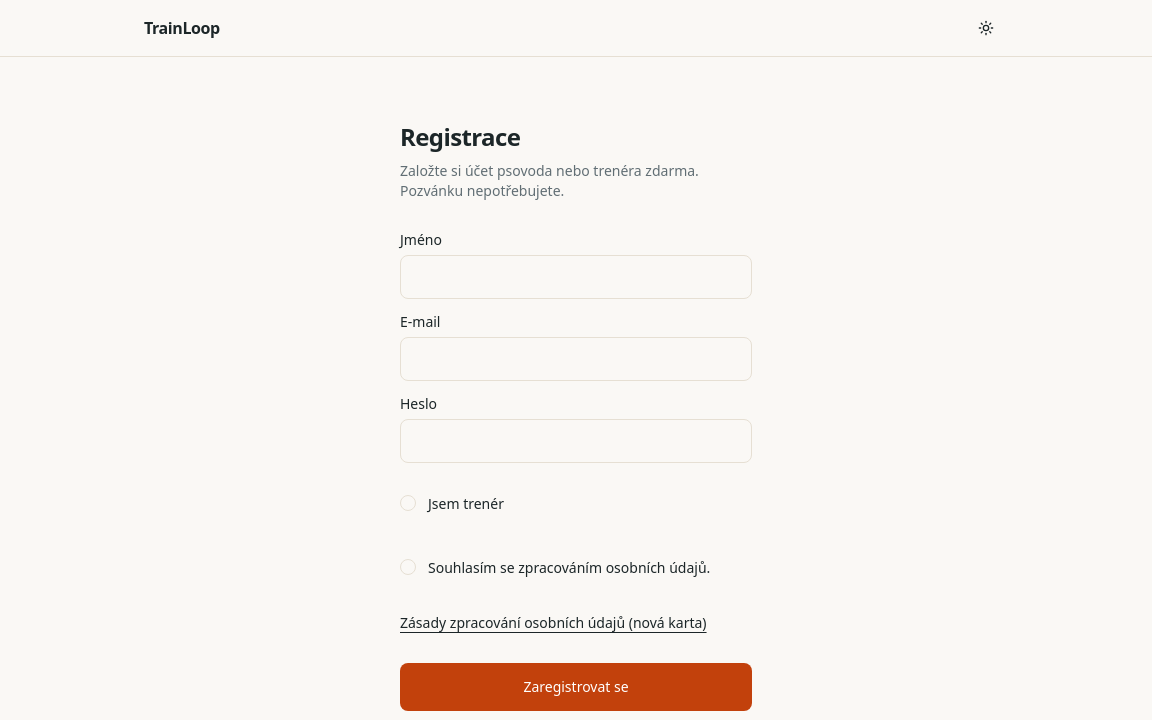
Test: owner registration › registers without a username or invitation, refreshes an anonymous session and opens Psi
The width and height of the screenshot is (1152, 720).
Type "  Jana Nováková  " into the field labelled "Jméno".
click(576, 277); type("  Jana Nováková  ")  # box [400,255,752,299]
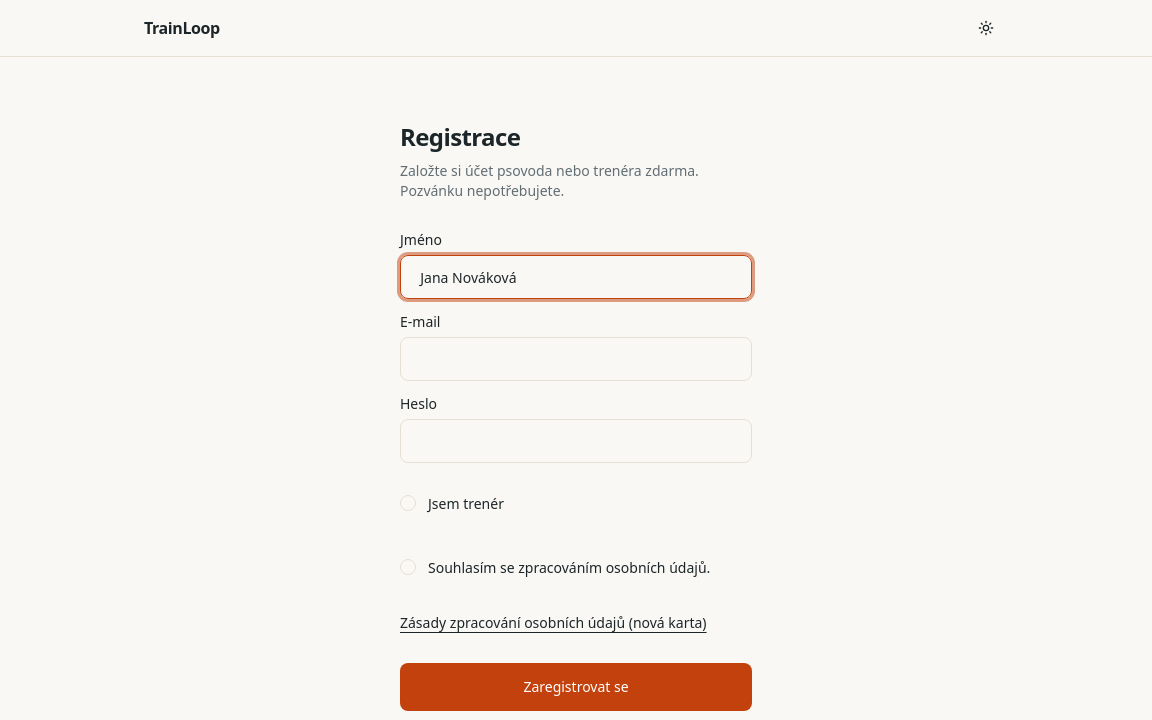
Type "jana@example.com" into the field labelled "E-mail".
click(576, 359); type("jana@example.com")  # box [400,337,752,381]
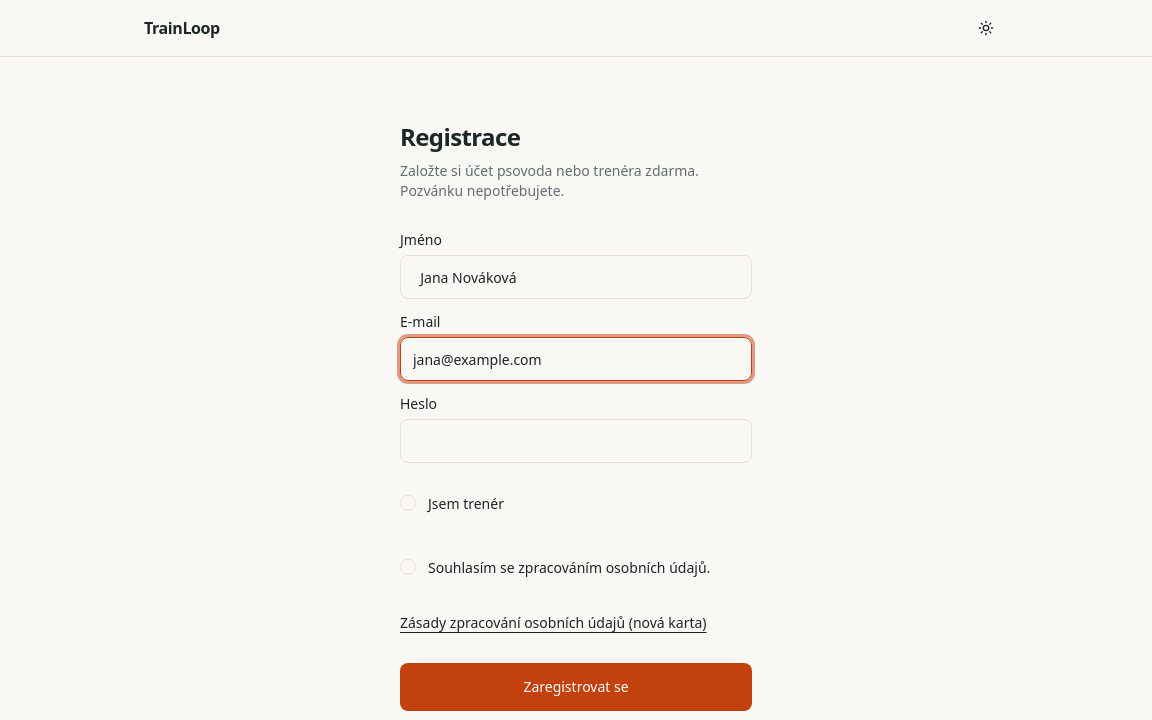
Type " space password " into the password field labelled "Heslo".
click(576, 441); type(" space password ")  # box [400,419,752,463]
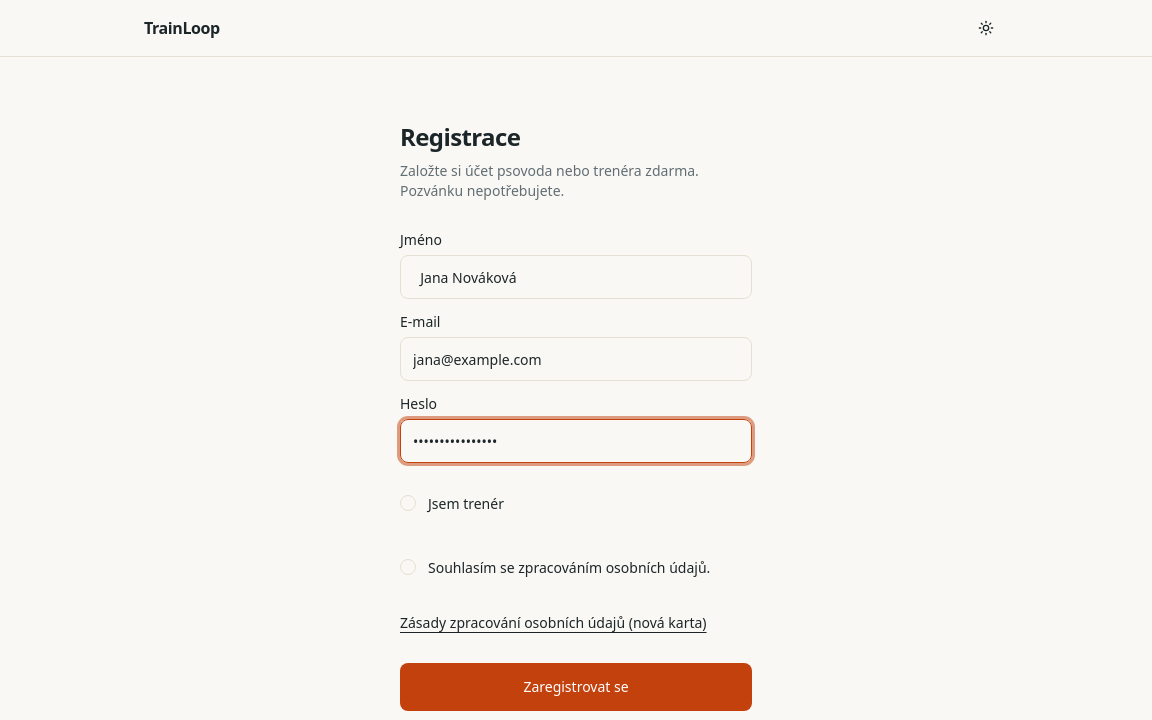
Click the checkbox named "Souhlasím se zpracováním osobních údajů." next to "Souhlasím se zpracováním osobních údajů.".
click(408, 567)  # box [400,559,416,575]
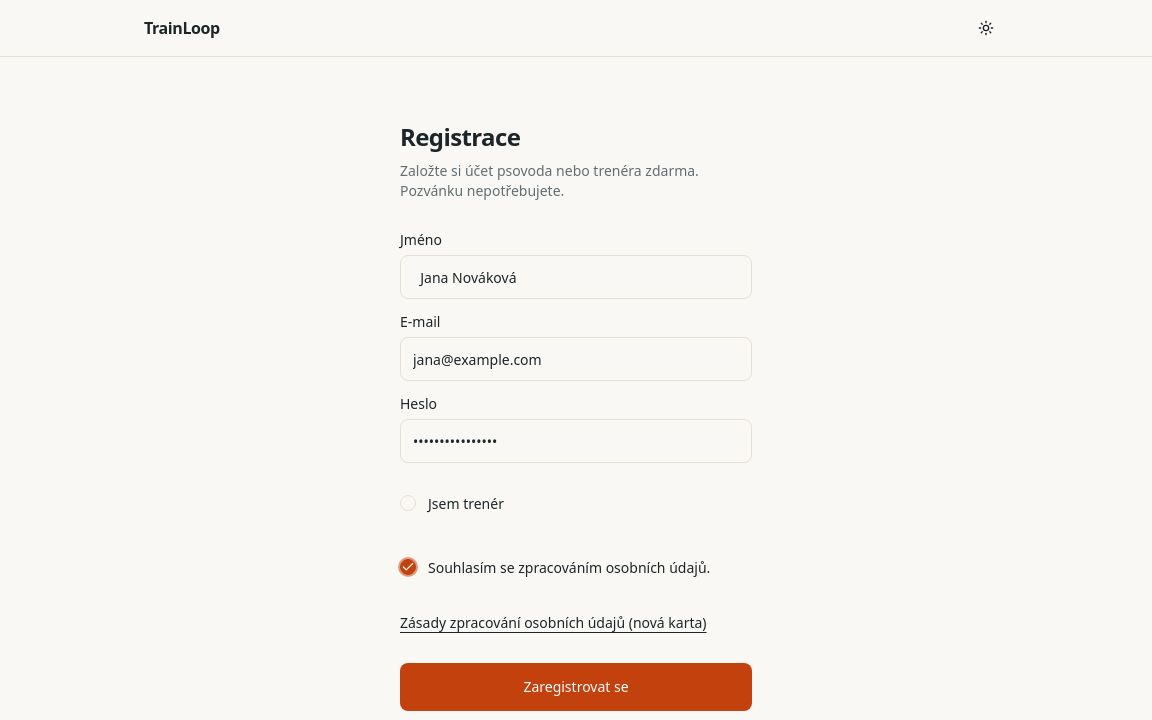
Click the button "Zaregistrovat se".
click(576, 687)  # box [400,663,752,711]
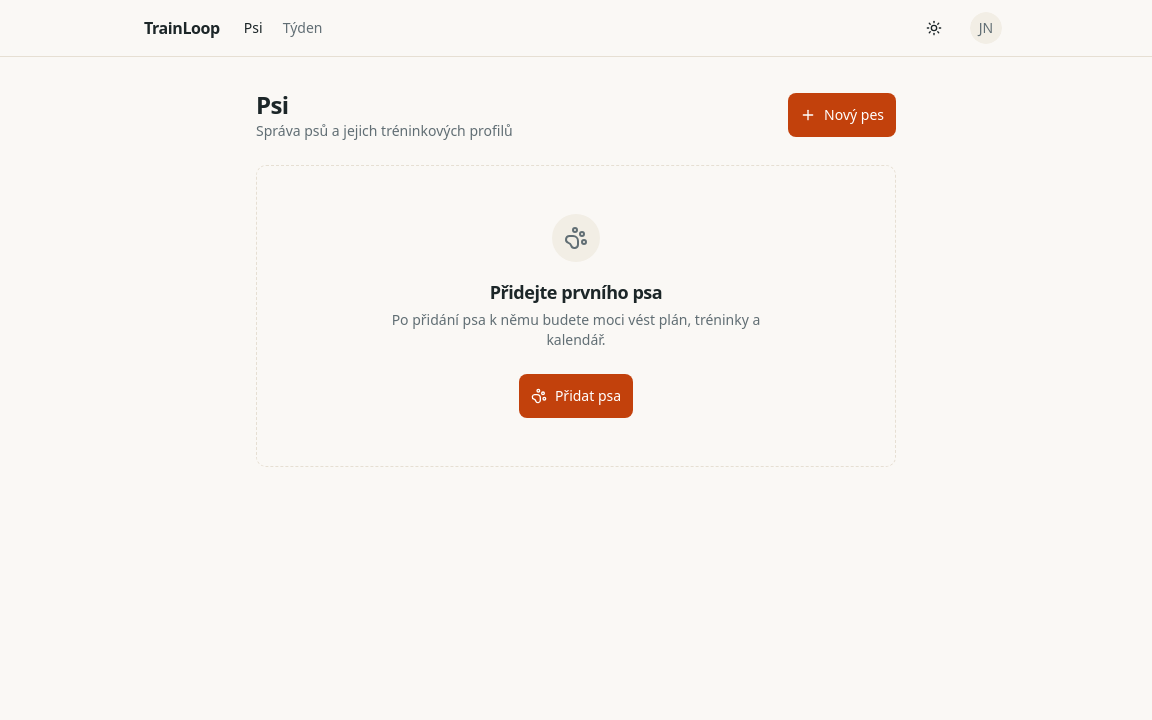
Now the heading "Psi" is shown, box [256,88,288,121]
Now the heading "Přidejte prvního psa" is shown, box [490,278,662,306]
